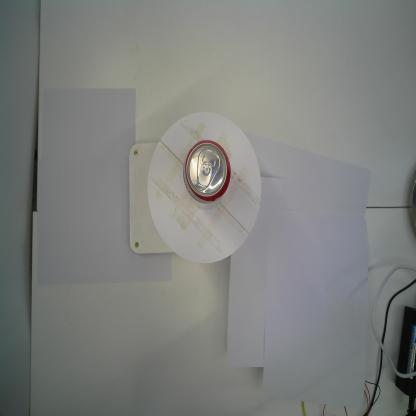Alcohol: (182, 139, 232, 205)
